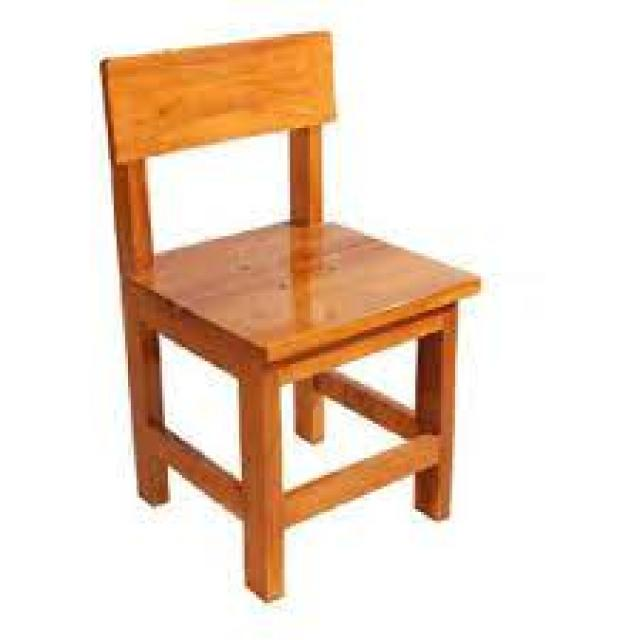chair: (70, 9, 488, 607)
